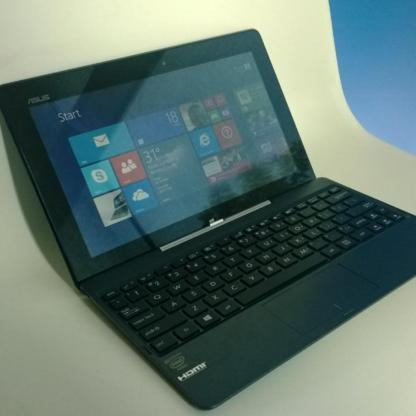board: (0, 33, 416, 416)
